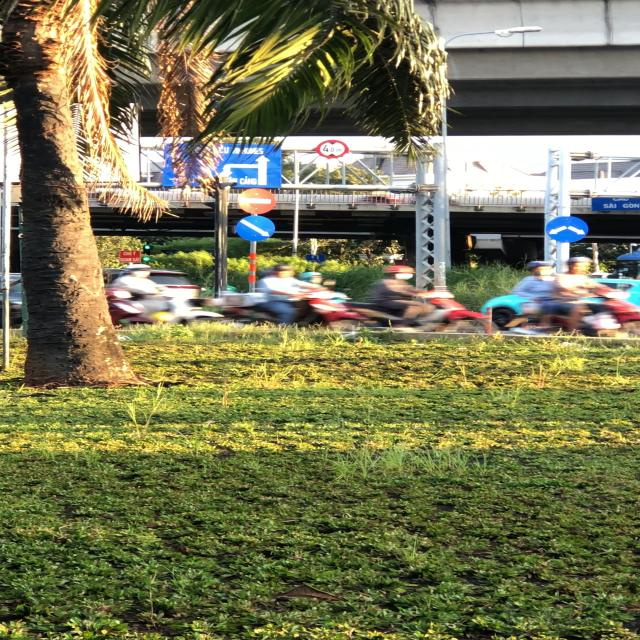Bien bao cam di nguoc chieu: (235, 185, 279, 214)
Bien bao han che chieu cao: (316, 140, 354, 162)
Bien bao huong phai di vong chuong ngai vat: (540, 215, 590, 245), (235, 215, 281, 243)
